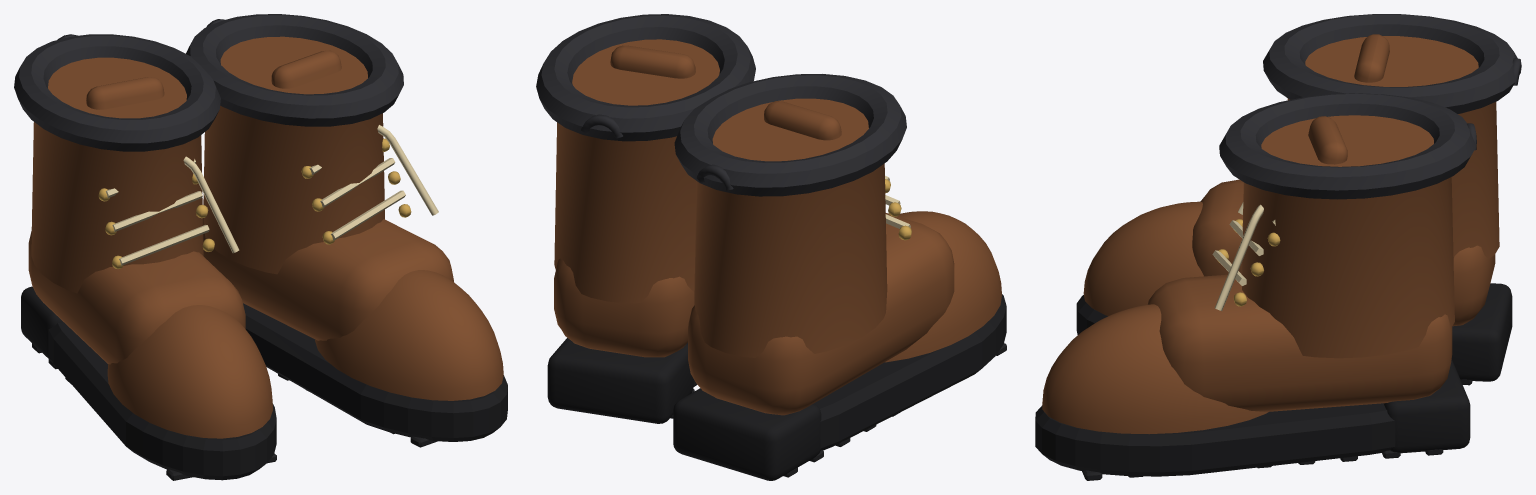
File: steel-toe-work-boots.glb
3 views of the same model, side by side, from view 1: azimuth 30°, elevation 25°; view 2: azimuth 150°, elevation 25°; view 3: azimuth 270°, elevation 25° (orthographic). The views are drawn at different scales.
Parts seen in each view (by area): view 1: Steel_Toe_Work_Boots; view 2: Steel_Toe_Work_Boots; view 3: Steel_Toe_Work_Boots.
Part boxes in pixels (x1,y1,x2,y2): Steel_Toe_Work_Boots: (14,14,507,480); Steel_Toe_Work_Boots: (536,14,1006,480); Steel_Toe_Work_Boots: (1035,14,1521,480).
Bounding box in the file's own units: 0.2828 × 0.2358 × 0.3372.
